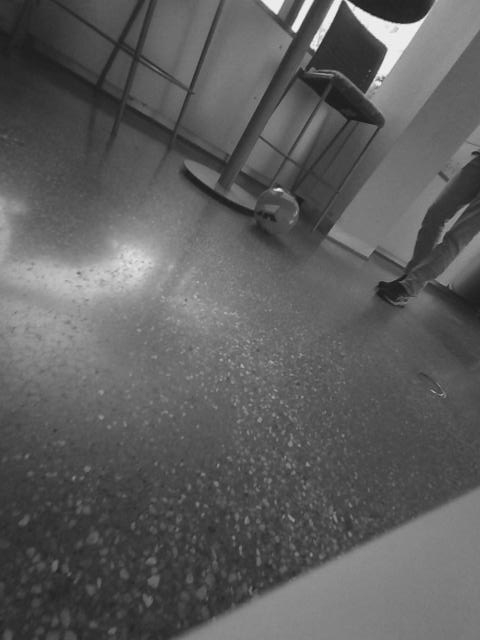ball: (252, 185, 301, 239)
